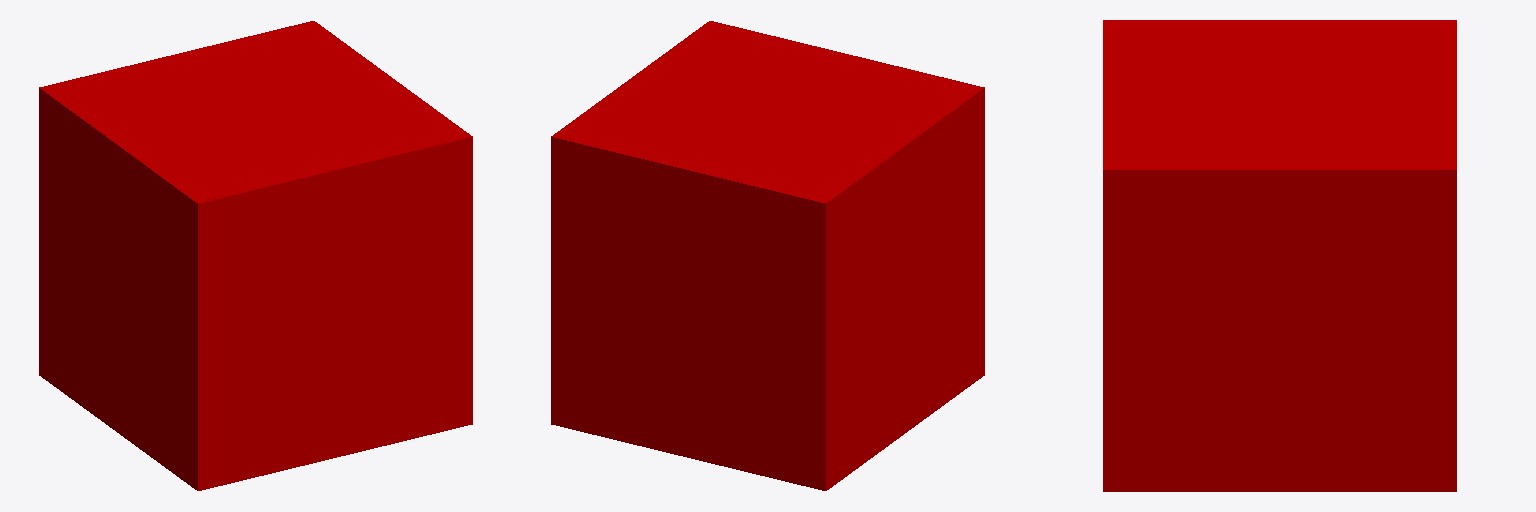
robot.urdf — open_manipulator:
<?xml version="1.0" ?>
<!-- =================================================================================== -->
<!-- |    This document was autogenerated by xacro from open_manipulator/urdf/open_manipulator_robot.urdf.xacro | -->
<!-- |    EDITING THIS FILE BY HAND IS NOT RECOMMENDED                                 | -->
<!-- =================================================================================== -->
<!-- Open_Manipulator Chain -->
<robot name="open_manipulator">

  <!-- Colors -->
  <material name="black">
    <color rgba="0.0 0.0 0.0 1.0"/>
  </material>
  <material name="white">
    <color rgba="1.0 1.0 1.0 1.0"/>
  </material>
  <material name="red">
    <color rgba="0.8 0.0 0.0 1.0"/>
  </material>
  <material name="blue">
    <color rgba="0.0 0.0 0.8 1.0"/>
  </material>
  <material name="green">
    <color rgba="0.0 0.8 0.0 1.0"/>
  </material>
  <material name="grey">
    <color rgba="0.5 0.5 0.5 1.0"/>
  </material>
  <material name="orange">
    <color rgba="1.0 0.4235294117647059 0.0392156862745098 1.0"/>
  </material>
  <material name="brown">
    <color rgba="0.8705882352941177 0.8117647058823529 0.7647058823529411 1.0"/>
  </material>

  <!-- Link 1 -->
  <link name="link1">
    <visual>
      <origin rpy="0 0 0" xyz="0 0 0"/>
      <geometry>
        <mesh filename="./meshes/chain_link1.stl" scale="0.001 0.001 0.001"/>
      </geometry>
      <material name="grey"/>
    </visual>
    <collision>
      <origin rpy="0 0 0" xyz="0 0 0"/>
      <geometry>
        <mesh filename="./meshes/chain_link1.stl" scale="0.001 0.001 0.001"/>
      </geometry>
    </collision>
    <inertial>
      <origin xyz="3.0876154e-04 0.0000000e+00 -1.2176461e-04"/>
      <mass value="7.9119962e-02"/>
      <inertia ixx="1.2505234e-05" ixy="0.0" ixz="-1.7855208e-07" iyy="2.1898364e-05" iyz="0.0" izz="1.9267361e-05"/>
    </inertial>
  </link>
  <!-- Joint 1 -->
  <joint name="joint1" type="revolute">
    <parent link="link1"/>
    <child link="link2"/>
    <origin rpy="0 0 0" xyz="0.012 0.0 0.017"/>
    <axis xyz="0 0 1"/>
    <limit effort="1" lower="-2.827433388230814" upper="2.827433388230814" velocity="4.8"/>
  </joint>
  <!--  Link 2 -->
  <link name="link2">
    <visual>
      <origin rpy="0 0 0" xyz="0 0 0.019"/>
      <geometry>
        <mesh filename="./meshes/chain_link2.stl" scale="0.001 0.001 0.001"/>
      </geometry>
      <material name="grey"/>
    </visual>
    <collision>
      <origin rpy="0 0 0" xyz="0 0 0.019"/>
      <geometry>
        <mesh filename="./meshes/chain_link2.stl" scale="0.001 0.001 0.001"/>
      </geometry>
    </collision>
    <inertial>
      <origin xyz="-3.0184870e-04 5.4043684e-04 0.047433463999999995"/>
      <mass value="9.8406837e-02"/>
      <inertia ixx="3.4543422e-05" ixy="-1.6031095e-08" ixz="-3.8375155e-07" iyy="3.2689329e-05" iyz="2.8511935e-08" izz="1.8850320e-05"/>
    </inertial>
  </link>
  <!--  Joint 2 -->
  <joint name="joint2" type="revolute">
    <parent link="link2"/>
    <child link="link3"/>
    <origin rpy="0 0 0" xyz="0.0 0.0 0.0595"/>
    <axis xyz="0 1 0"/>
    <limit effort="1" lower="-1.790707812546182" upper="1.5707963267948966" velocity="4.8"/>
  </joint>
  <!--  Link 3 -->
  <link name="link3">
    <visual>
      <origin rpy="0 0 0" xyz="0 0 0"/>
      <geometry>
        <mesh filename="./meshes/chain_link3.stl" scale="0.001 0.001 0.001"/>
      </geometry>
      <material name="grey"/>
    </visual>
    <collision>
      <origin rpy="0 0 0" xyz="0 0 0"/>
      <geometry>
        <mesh filename="./meshes/chain_link3.stl" scale="0.001 0.001 0.001"/>
      </geometry>
    </collision>
    <inertial>
      <origin xyz="1.0308393e-02 3.7743363e-04 1.0170197e-01"/>
      <mass value="1.3850917e-01"/>
      <inertia ixx="3.3055381e-04" ixy="-9.7940978e-08" ixz="-3.8505711e-05" iyy="3.4290447e-04" iyz="-1.5717516e-06" izz="6.0346498e-05"/>
    </inertial>
  </link>
  <!--  Joint 3 -->
  <joint name="joint3" type="revolute">
    <parent link="link3"/>
    <child link="link4"/>
    <origin rpy="0 0 0" xyz="0.024 0 0.128"/>
    <axis xyz="0 1 0"/>
    <limit effort="1" lower="-0.9424777960769379" upper="1.382300767579509" velocity="4.8"/>
  </joint>
  <!--  Link 4 -->
  <link name="link4">
    <visual>
      <origin rpy="0 0 0" xyz="0 0 0"/>
      <geometry>
        <mesh filename="./meshes/chain_link4.stl" scale="0.001 0.001 0.001"/>
      </geometry>
      <material name="grey"/>
    </visual>
    <collision>
      <origin rpy="0 0 0" xyz="0 0 0"/>
      <geometry>
        <mesh filename="./meshes/chain_link4.stl" scale="0.001 0.001 0.001"/>
      </geometry>
    </collision>
    <inertial>
      <origin xyz="9.0909590e-02 3.8929816e-04 2.2413279e-04"/>
      <mass value="1.3274562e-01"/>
      <inertia ixx="3.0654178e-05" ixy="-1.2764155e-06" ixz="-2.6874417e-07" iyy="2.4230292e-04" iyz="1.1559550e-08" izz="2.5155057e-04"/>
    </inertial>
  </link>
  <!--  Joint 4 -->
  <joint name="joint4" type="revolute">
    <parent link="link4"/>
    <child link="link5"/>
    <origin rpy="0 0 0" xyz="0.124 0.0 0.0"/>
    <axis xyz="0 1 0"/>
    <limit effort="1" lower="-1.790707812546182" upper="2.0420352248333655" velocity="4.8"/>
  </joint>
  <!--  Link 5 -->
  <link name="link5">
    <visual>
      <origin rpy="0 0 0" xyz="0 0 0"/>
      <geometry>
        <mesh filename="./meshes/chain_link5.stl" scale="0.001 0.001 0.001"/>
      </geometry>
      <material name="grey"/>
    </visual>
    <collision>
      <origin rpy="0 0 0" xyz="0 0 0"/>
      <geometry>
        <mesh filename="./meshes/chain_link5.stl" scale="0.001 0.001 0.001"/>
      </geometry>
    </collision>
    <inertial>
      <origin xyz="4.4206755e-02 3.6839985e-07 8.9142216e-03"/>
      <mass value="1.4327573e-01"/>
      <inertia ixx="8.0870749e-05" ixy="0.0" ixz="-1.0157896e-06" iyy="7.5980465e-05" iyz="0.0" izz="9.3127351e-05"/>
    </inertial>
  </link>
  <!--  Gripper joint -->
  <joint name="gripper" type="prismatic">
    <parent link="link5"/>
    <child link="gripper_link"/>
    <origin rpy="0 0 0" xyz="0.0817 0.021 0.0"/>
    <axis xyz="0 1 0"/>
    <limit effort="1" lower="-0.010" upper="0.019" velocity="4.8"/>
  </joint>
  <!--  Gripper link -->
  <link name="gripper_link">
    <visual>
      <origin rpy="0 0 0" xyz="0.0 0.0 0"/>
      <geometry>
        <mesh filename="./meshes/chain_link_grip_l.stl" scale="0.001 0.001 0.001"/>
      </geometry>
      <material name="grey"/>
    </visual>
    <collision>
      <origin rpy="0 0 0" xyz="0.0 0.0 0"/>
      <geometry>
        <mesh filename="./meshes/chain_link_grip_l.stl" scale="0.001 0.001 0.001"/>
      </geometry>
    </collision>
    <inertial>
      <origin xyz="0 0 0"/>
      <mass value="1.0e-03"/>
      <inertia ixx="1.0e-03" ixy="0.0" ixz="0.0" iyy="1.0e-03" iyz="0.0" izz="1.0e-03"/>
    </inertial>
  </link>
  <!--  Gripper joint sub -->
  <joint name="gripper_sub" type="prismatic">
    <parent link="link5"/>
    <child link="gripper_link_sub"/>
    <origin rpy="0 0 0" xyz="0.0817 -0.021 0"/>
    <axis xyz="0 -1 0"/>
    <limit effort="1" lower="-0.010" upper="0.019" velocity="4.8"/>
    <mimic joint="gripper" multiplier="1"/>
  </joint>
  <!--  Gripper link sub -->
  <link name="gripper_link_sub">
    <visual>
      <origin rpy="0 0 0" xyz="0.0 -0.0 0"/>
      <geometry>
        <mesh filename="./meshes/chain_link_grip_r.stl" scale="0.001 0.001 0.001"/>
      </geometry>
      <material name="grey"/>
    </visual>
    <collision>
      <origin rpy="0 0 0" xyz="0.0 -0.0 0"/>
      <geometry>
        <mesh filename="./meshes/chain_link_grip_r.stl" scale="0.001 0.001 0.001"/>
      </geometry>
    </collision>
    <inertial>
      <origin xyz="0 0 0"/>
      <mass value="1.0e-03"/>
      <inertia ixx="1.0e-03" ixy="0.0" ixz="0.0" iyy="1.0e-03" iyz="0.0" izz="1.0e-03"/>
    </inertial>
  </link>
  <!-- end effector joint -->
  <joint name="end_effector_joint" type="fixed">
    <origin rpy="0 0 0" xyz="0.126 0.0 0.0"/>
    <parent link="link5"/>
    <child link="end_effector_link"/>
  </joint>
  <!-- end effector link -->
  <link name="end_effector_link">
    <visual>
      <origin rpy="0 0 0" xyz="0 0 0"/>
      <geometry>
        <box size="0.01 0.01 0.01"/>
      </geometry>
      <material name="red"/>
    </visual>
    <inertial>
      <origin xyz="0 0 0"/>
      <mass value="1.0e-03"/>
      <inertia ixx="1.0e-03" ixy="0.0" ixz="0.0" iyy="1.0e-03" iyz="0.0" izz="1.0e-03"/>
    </inertial>
  </link>
  <!-- Realsense Camera Joint Position -->
  <!--   <joint name="camera_joint" type="fixed">
    <axis xyz="0 1 0" />
    <origin xyz="0.070 0.032 0.052" rpy="0 0 0"/> 
    <parent link="link5"/>
    <child link="camera_link"/>
  </joint>

  <link name="camera_link"/> -->
  <!-- World -->
  <link name="world"/>
  <!-- World fixed joint-->
  <joint name="world_fixed" type="fixed">
    <origin rpy="0 0 0" xyz="0 0 0"/>
    <parent link="world"/>
    <child link="link1"/>
  </joint>
</robot>

--- Render facts (derived) ---
The picture shows the robot from 3 angles, left to right: view 1: azimuth 30°, elevation 25°; view 2: azimuth 150°, elevation 25°; view 3: azimuth 270°, elevation 25°; orthographic projection.
Model open_manipulator with 9 links and 8 joints (4 revolute, 2 prismatic, 2 fixed), rooted at world, posed all joints at 0.
Links seen in each view (by area): view 1: end_effector_link; view 2: end_effector_link; view 3: end_effector_link.
Boxes of the visible links, x1,y1,x2,y2 form: end_effector_link: (39, 21, 472, 490); end_effector_link: (551, 21, 984, 490); end_effector_link: (1103, 20, 1456, 491).
Bounding box of the posed robot: 0.01 × 0.01 × 0.01 m (x, y, z).
Meshes: 7 distinct files referenced, 0 mesh visuals loaded (none loaded); not drawn: 7 (reference not matched to a file when rendering).